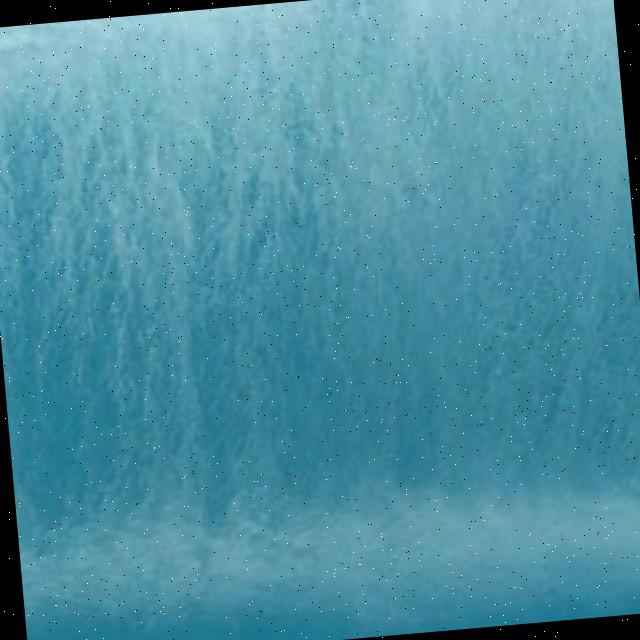Ci: (1, 1, 640, 587)
